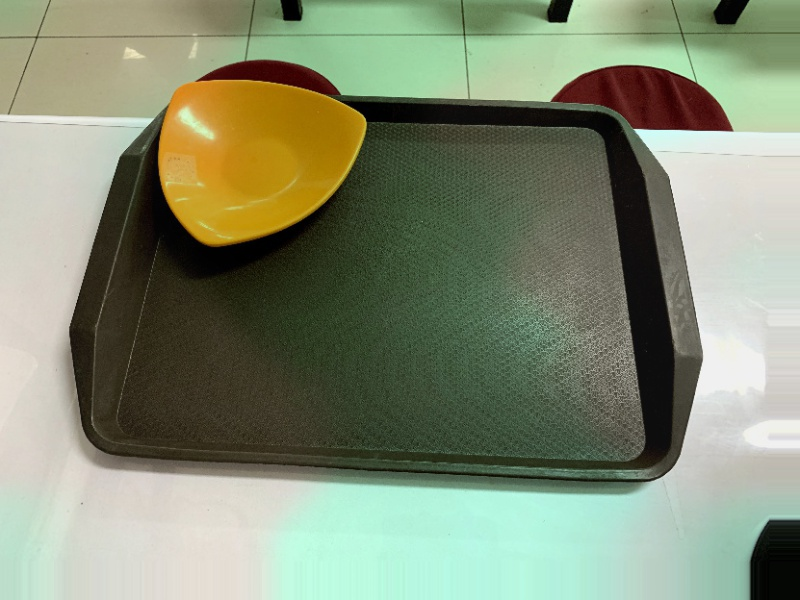dish11: (152, 75, 373, 254)
